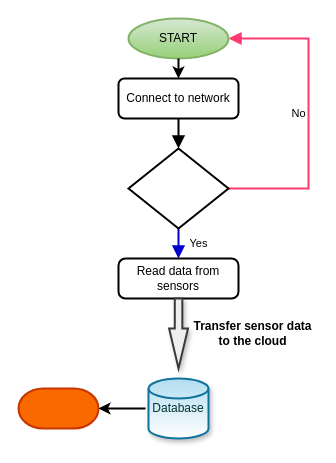
Image size: 336x463. Some labels were removed from this diagram. Here are the shapes that lost their labels. From the top down, the centre of each, then its label:
the point at 178,188: Network connected
the point at 58,408: End
